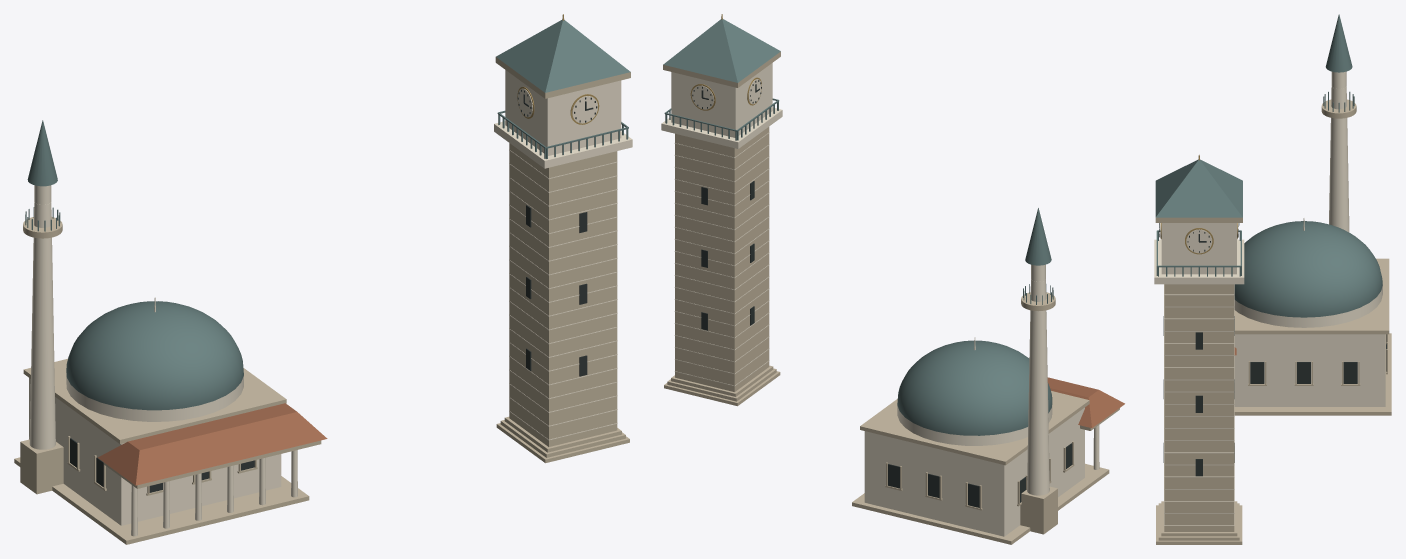
The model's file is public-landmarks.glb.
3 views of the same model, side by side, from view 1: azimuth 30°, elevation 25°; view 2: azimuth 150°, elevation 25°; view 3: azimuth 270°, elevation 25° (orthographic). The views are drawn at different scales.
Parts seen in each view (by area): view 1: mosque, clock; view 2: mosque, clock; view 3: mosque, clock.
Part boxes in pixels (bbox=[...]): mosque: bbox=[14, 120, 327, 544]; clock: bbox=[494, 14, 632, 463]; mosque: bbox=[852, 208, 1124, 544]; clock: bbox=[661, 14, 782, 406]; mosque: bbox=[1234, 14, 1391, 415]; clock: bbox=[1154, 154, 1244, 544].
Size of the model in its own units: 43.98 by 35.2 by 20.34.
